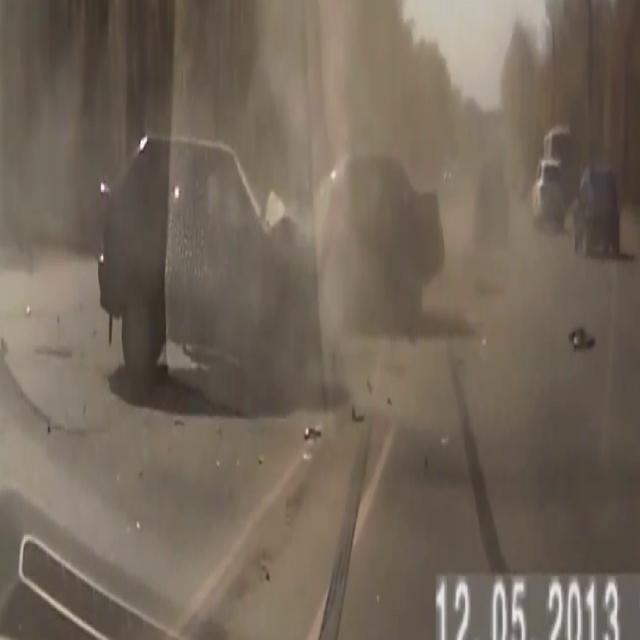accident: (102, 103, 340, 435)
